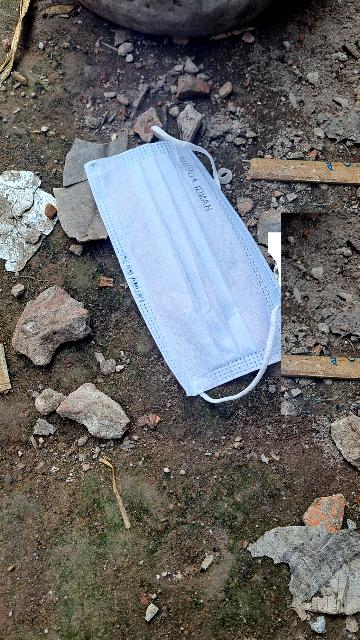mask: (46, 112, 327, 429)
